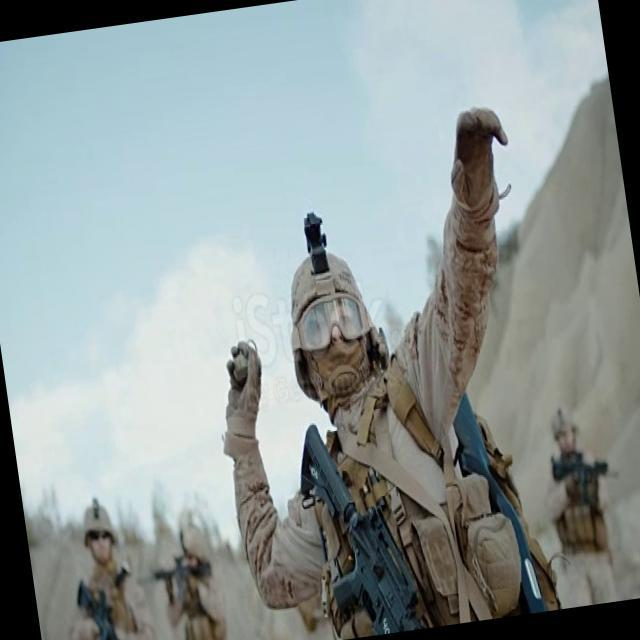grenade: (225, 334, 264, 384)
